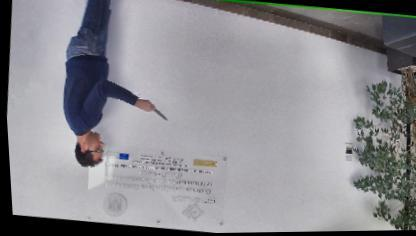knife: (142, 101, 172, 123)
